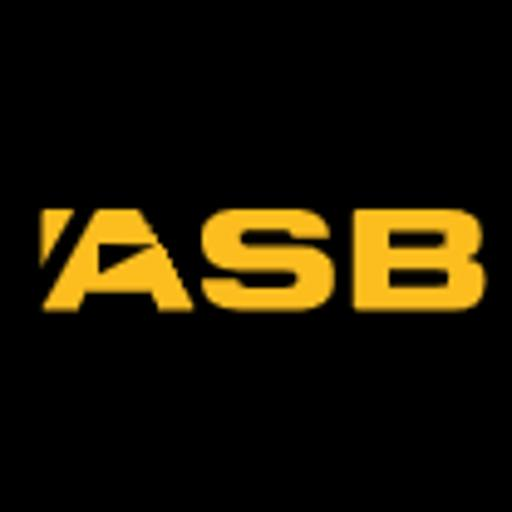ASB Bank Limited: (0, 170, 512, 342)
